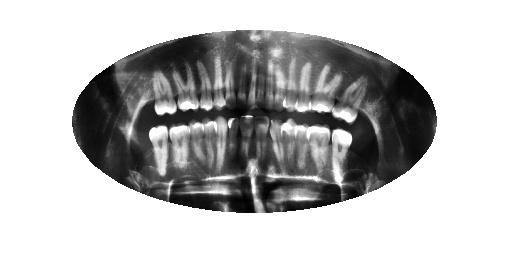i10healthy: (209, 113, 229, 173)
i11healthy: (196, 110, 217, 178)
i12healthy: (185, 112, 206, 181)
i13healthy: (167, 118, 194, 181)
i14healthy: (146, 120, 171, 180)
i2healthy: (327, 121, 355, 191)
i3healthy: (300, 116, 333, 182)
i4healthy: (289, 119, 313, 177)
i5healthy: (278, 112, 299, 172)
i6healthy: (265, 112, 287, 172)
i7decay: (249, 110, 272, 179)
i8decay: (236, 109, 256, 174)
i9healthy: (223, 108, 241, 180)
u10decay: (234, 53, 248, 111)
u11decay: (220, 51, 239, 111)
u12healthy: (208, 55, 227, 115)
u13healthy: (190, 55, 219, 114)
u14healthy: (168, 60, 200, 116)
u15healthy: (149, 63, 180, 122)
u2healthy: (330, 68, 370, 129)
u3healthy: (307, 59, 346, 117)
u4healthy: (291, 55, 315, 116)
u5healthy: (280, 57, 301, 115)
u6healthy: (269, 59, 291, 116)
u7healthy: (263, 57, 278, 114)
u8decay: (254, 56, 265, 111)
u9healthy: (242, 57, 261, 111)
